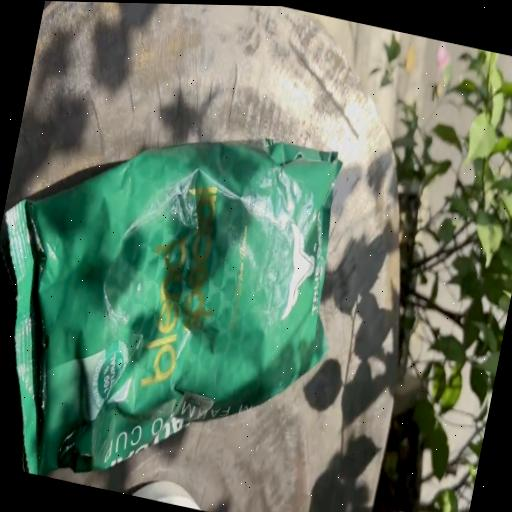cafe_xay: (5, 140, 341, 475)
